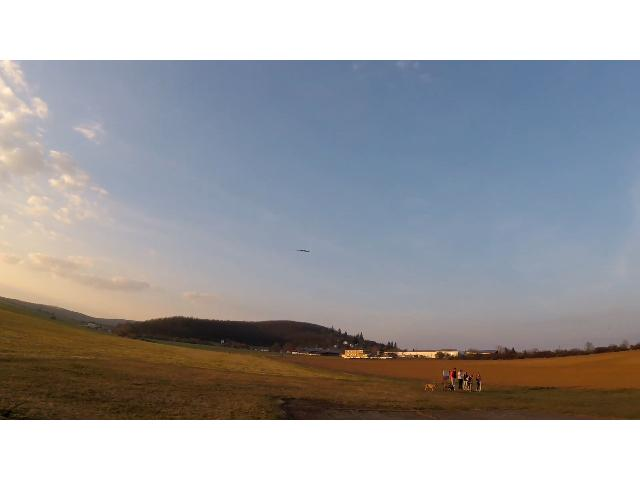Anti-Drone: (295, 250, 311, 253)
